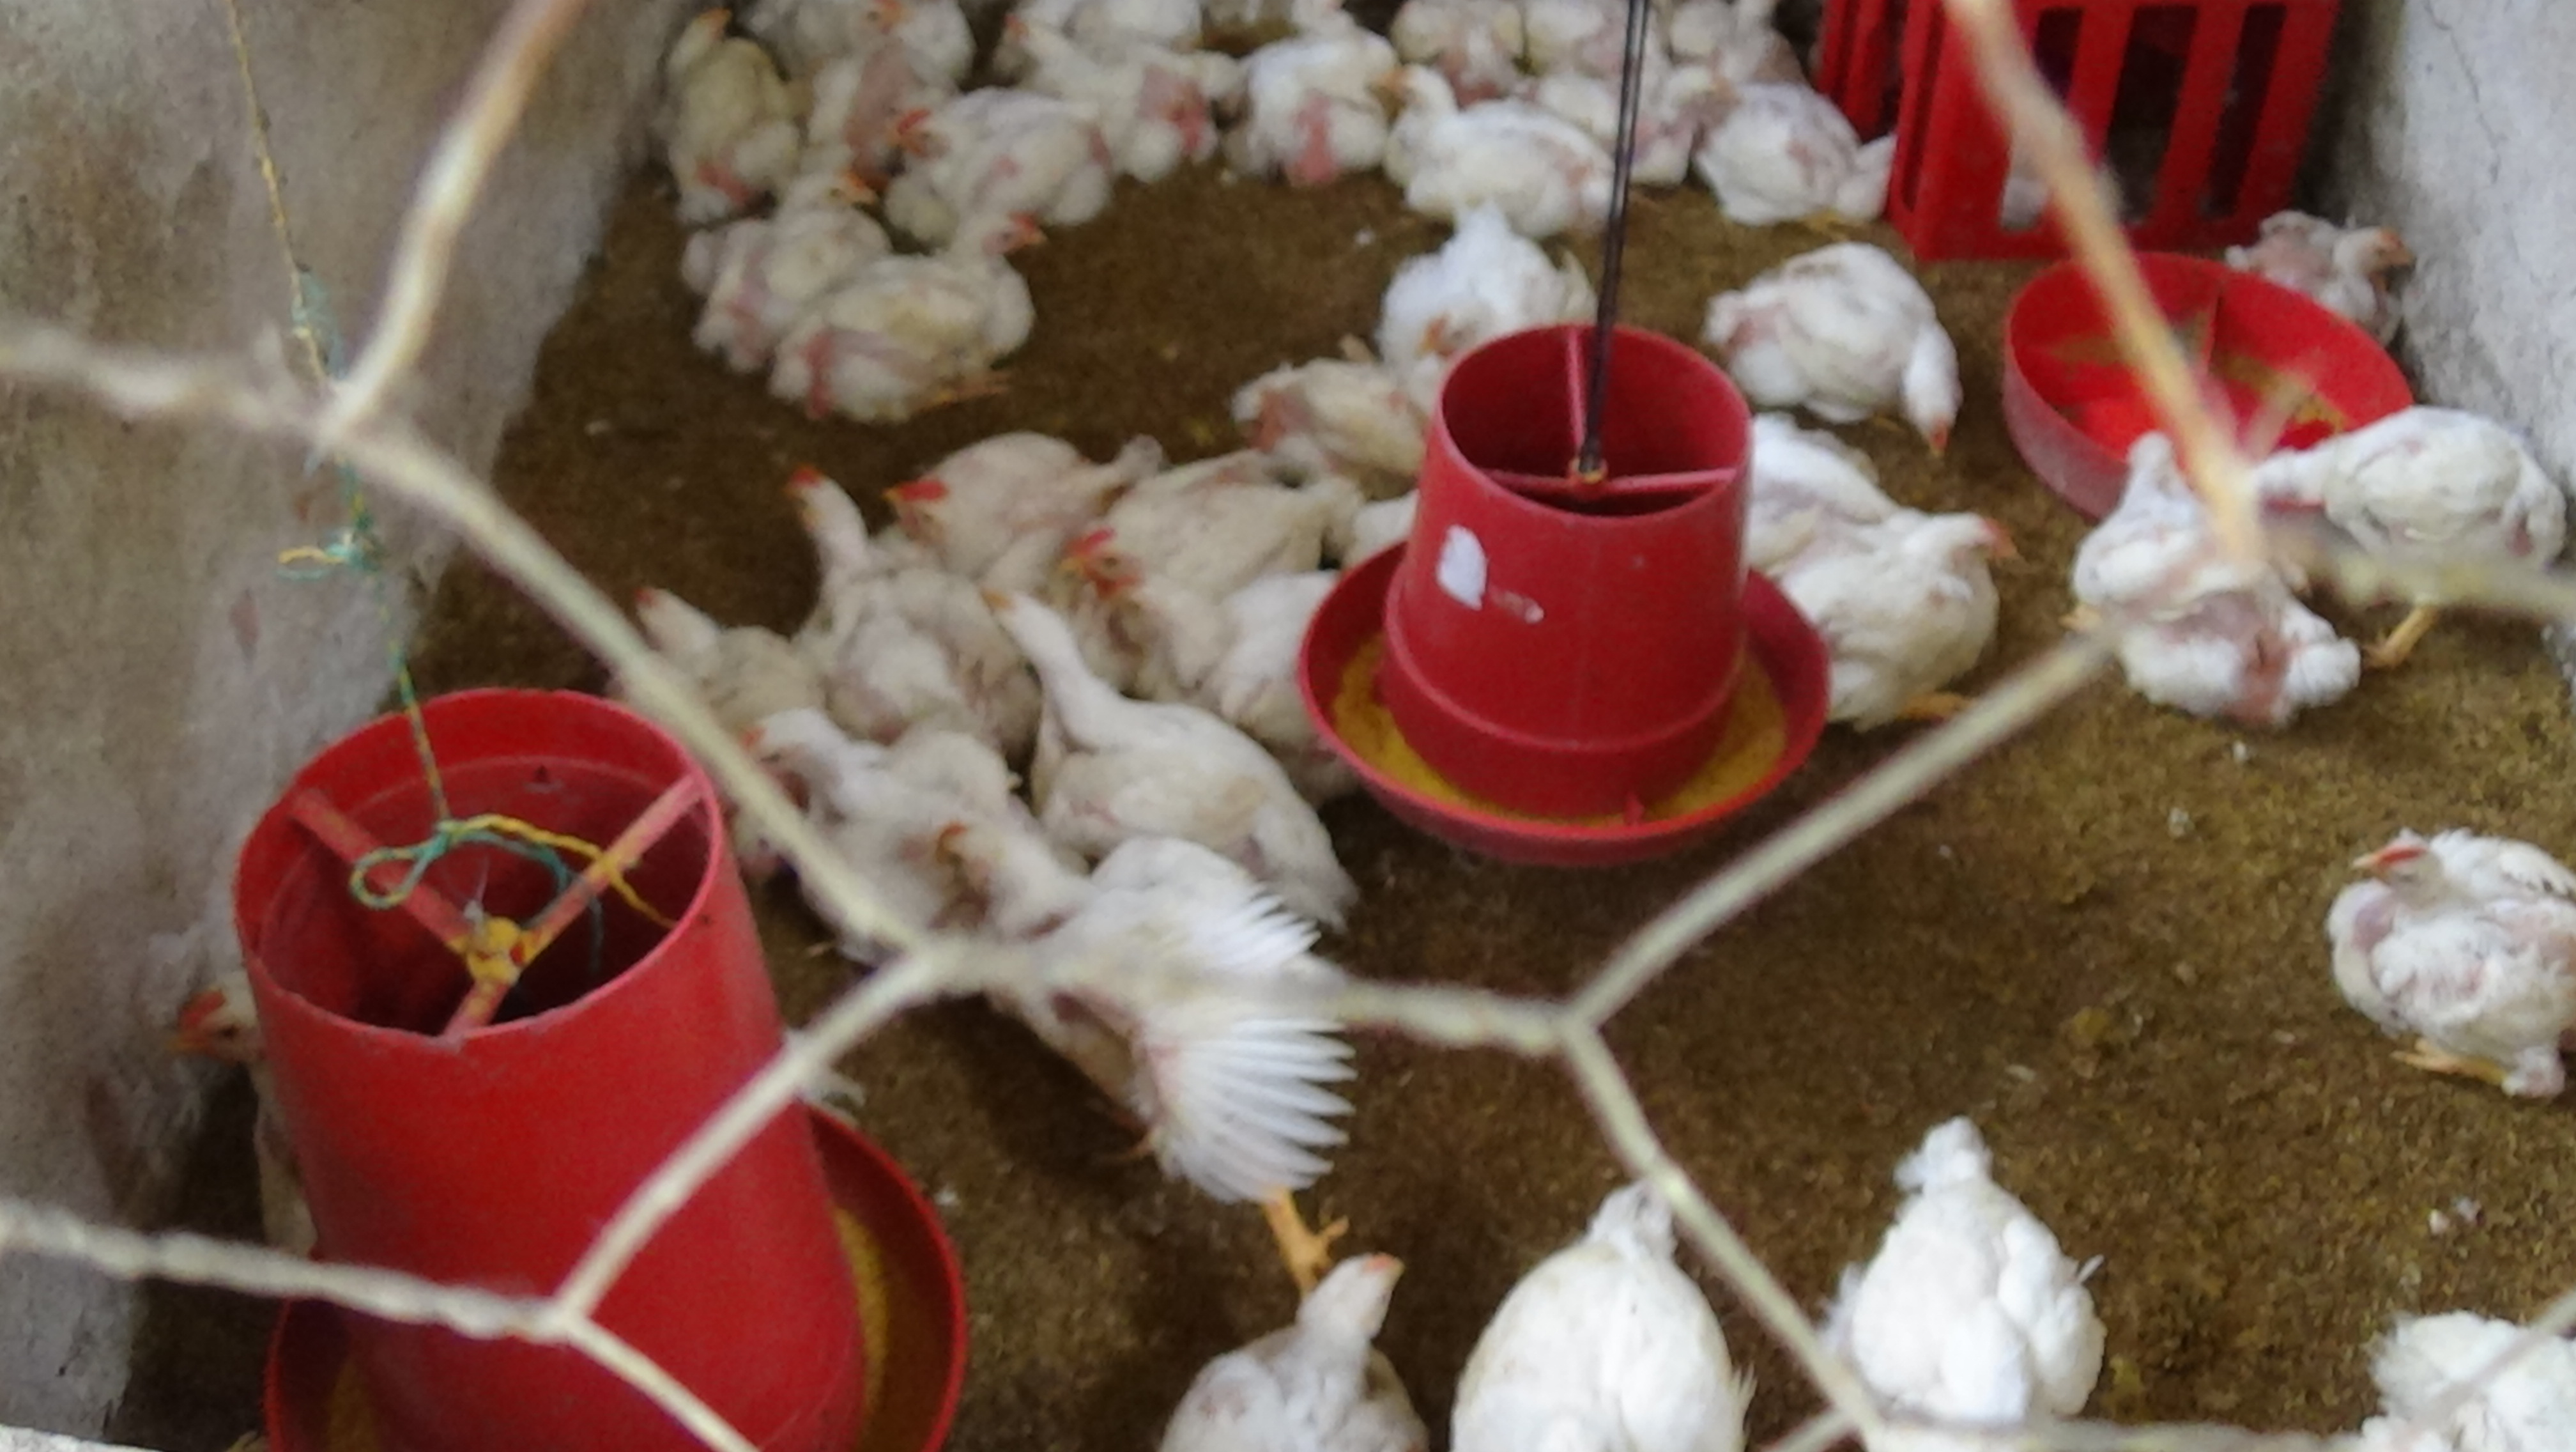Pollos: (1785, 1110, 2116, 1413), (2279, 384, 2565, 669), (1477, 1167, 1752, 1452), (2318, 783, 2576, 1084), (2070, 425, 2291, 730), (1152, 1227, 1433, 1452), (1721, 244, 1987, 464), (1798, 494, 2026, 726), (819, 212, 1053, 407), (1384, 55, 1606, 232), (978, 584, 1139, 825), (2219, 189, 2459, 349), (1714, 67, 1909, 225), (1240, 0, 1396, 177), (872, 427, 1063, 554), (927, 804, 1079, 960), (888, 99, 1077, 212), (731, 705, 904, 820), (658, 5, 805, 138), (1398, 257, 1550, 381), (609, 572, 748, 694), (1102, 39, 1223, 181), (1039, 519, 1194, 613), (775, 444, 872, 577), (761, 151, 888, 250), (823, 0, 938, 78), (987, 5, 1081, 83), (1647, 53, 1730, 124)
